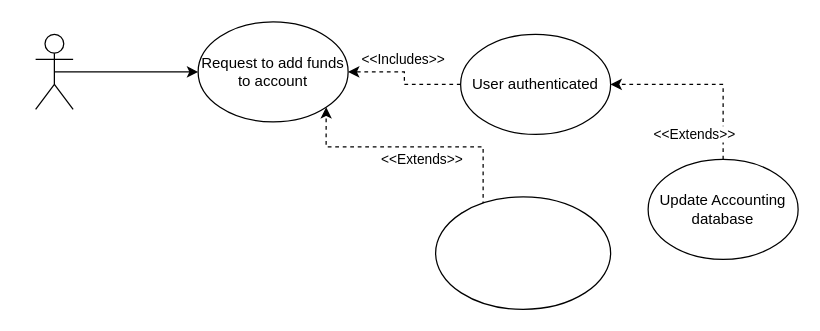
This 820x331 diagram has some shape labels left out. Here are the shapes that lost their labels. From the top down, the centre of each, then its label:
(x=53, y=71): Customer
(x=522, y=252): Customer is notified of declined payment. Nothing is updated
